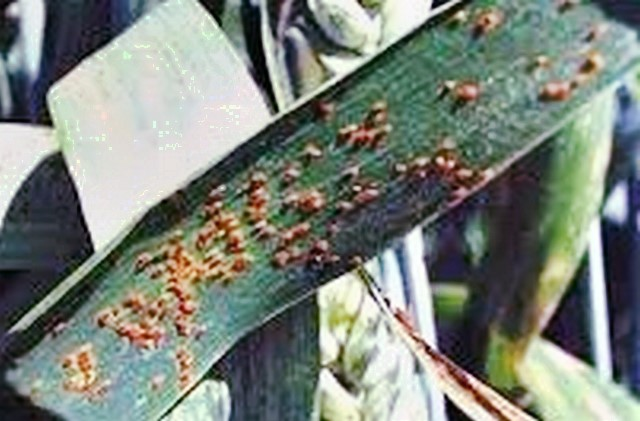Leaf Rust: (105, 39, 547, 365)
